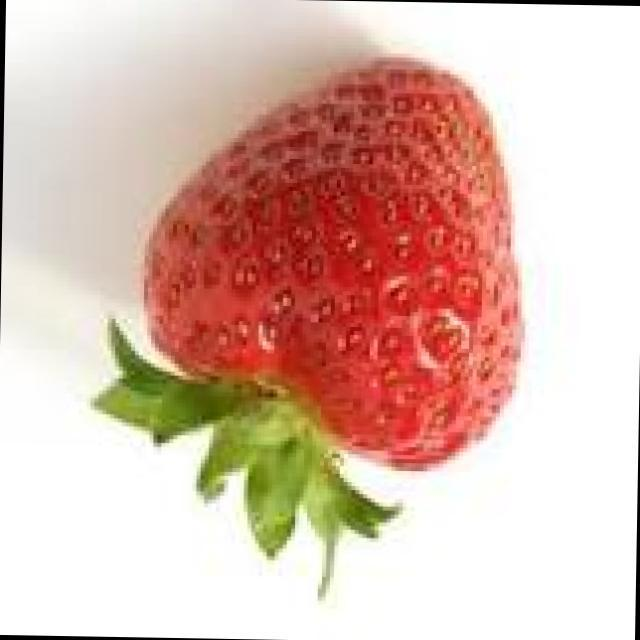Strawberry: (83, 52, 541, 592)
